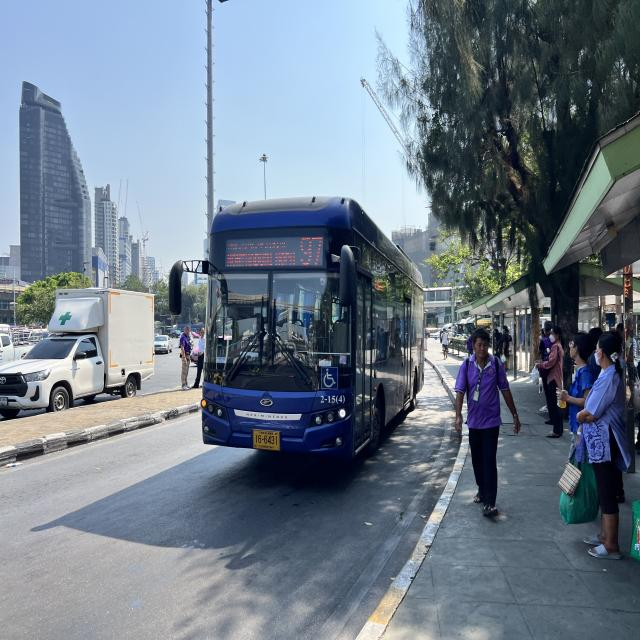Bus-Line-Number: (298, 232, 325, 270)
Destination-Sign-Normal: (224, 234, 297, 270)
TSB-Bus: (199, 196, 425, 464)
